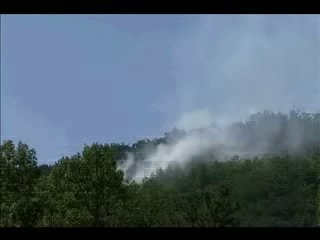smoke: (177, 19, 320, 165), (114, 120, 190, 183)
